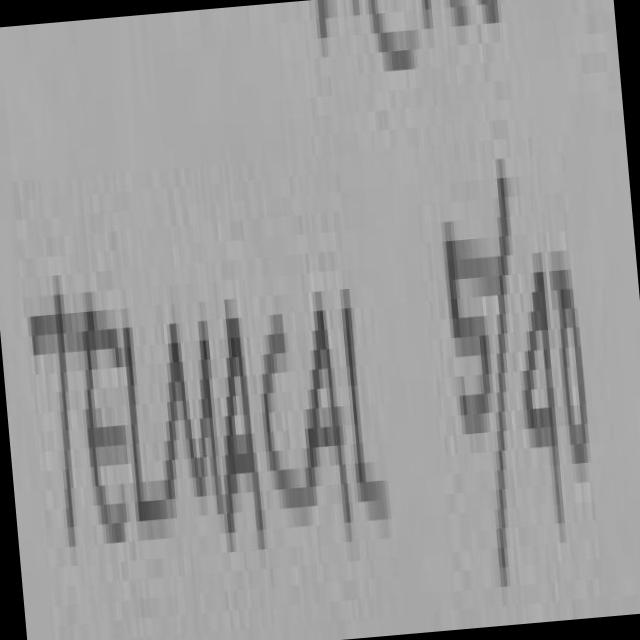0: (559, 269, 590, 463)
4: (527, 272, 569, 557)
5: (447, 239, 499, 433)
A: (308, 310, 353, 512), (227, 318, 264, 539)
C: (264, 314, 307, 508)
E: (83, 311, 126, 543)
L: (345, 288, 390, 520), (124, 327, 166, 511)
M: (165, 320, 223, 504)
T: (31, 294, 86, 537)
